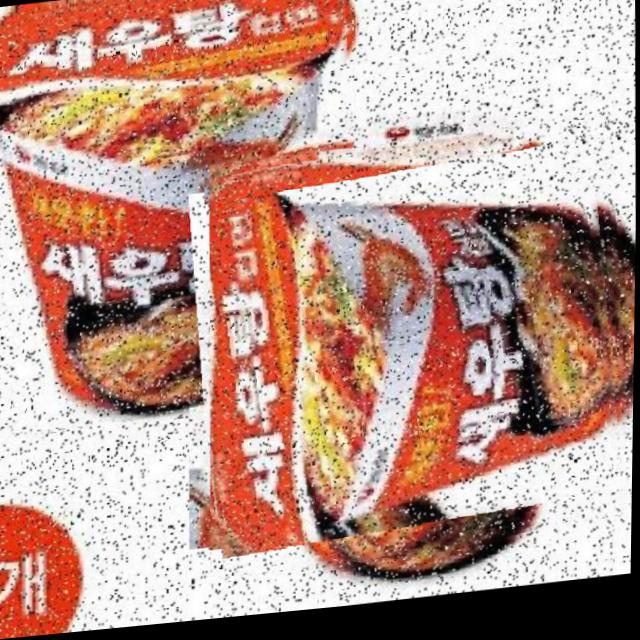Miscellaneous: (203, 126, 632, 582), (0, 0, 368, 434)
